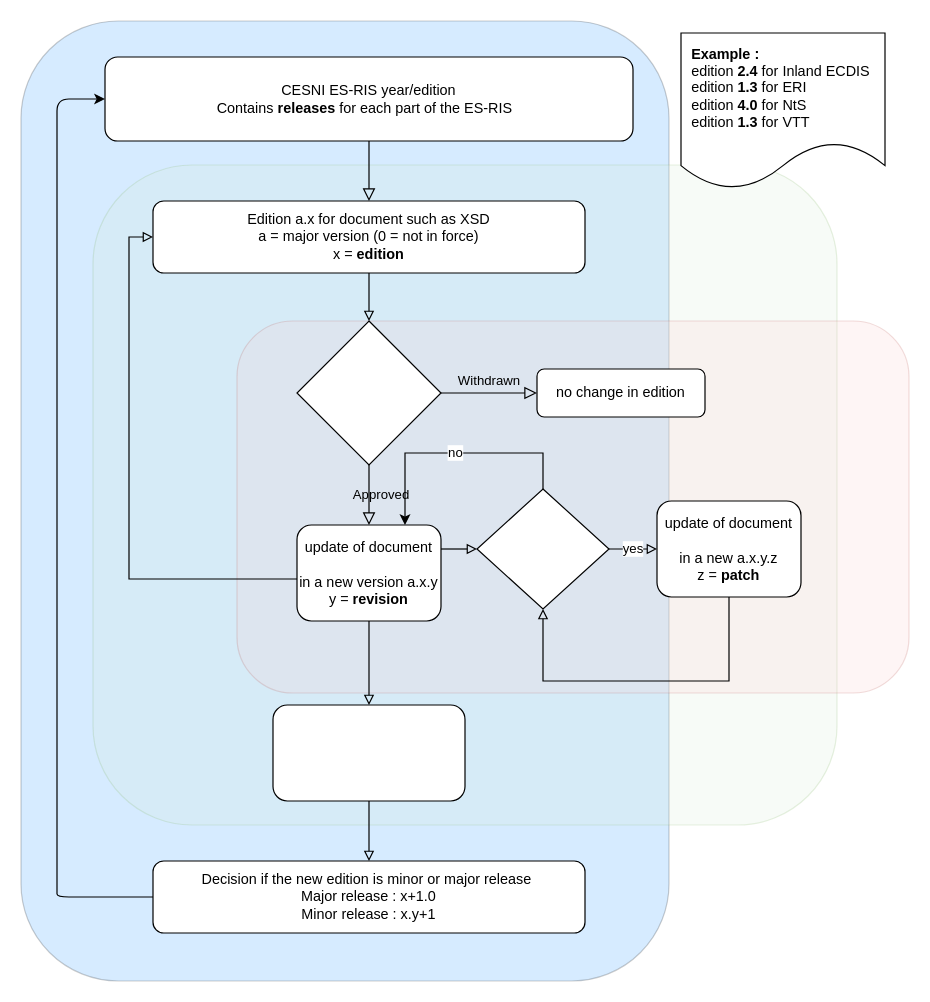
Image size: 930x1002. Some labels were removed from this diagram. Here are the shapes that lost their labels. From the top down, the box of each, then its label:
(296, 320, 441, 465): Change Request #
(476, 488, 609, 609): revision is still on test / trials ?
(272, 704, 465, 801): Collect of all revisions a.x.y into submitted edition To CESNI/TI
